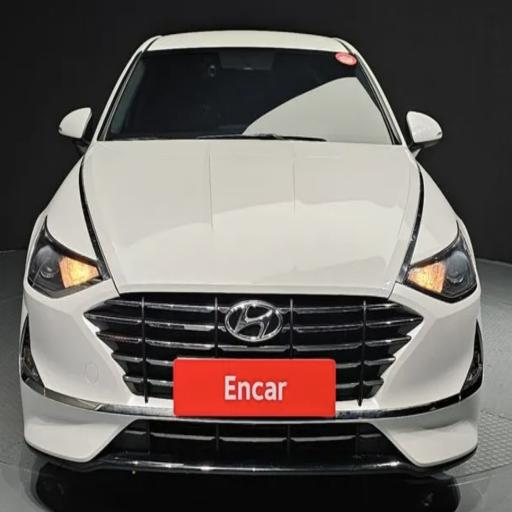normal: (15, 21, 490, 487)
